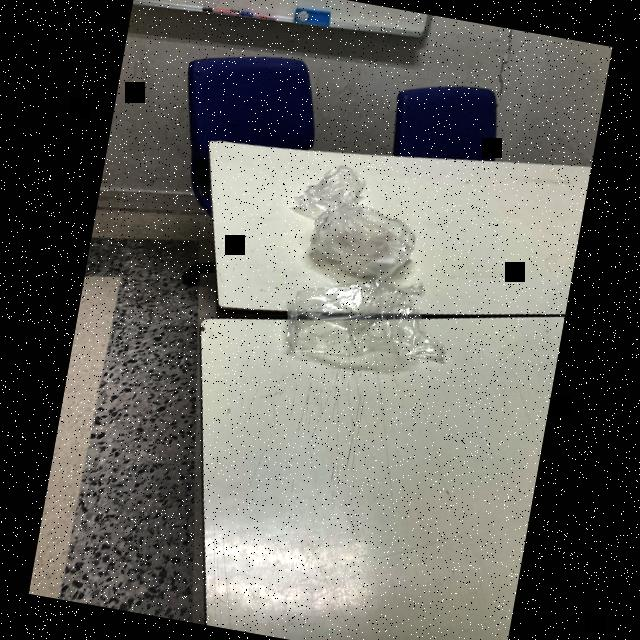plastic_bag: (267, 251, 455, 393), (288, 187, 424, 293), (290, 150, 371, 222)
